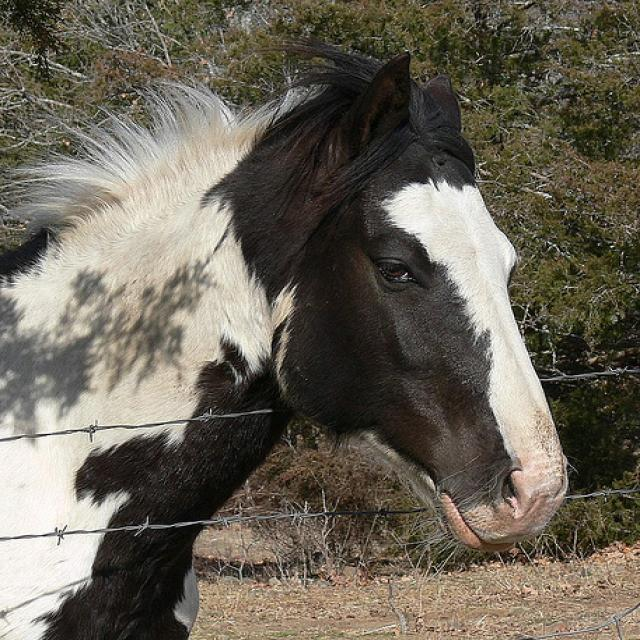horse: (1, 46, 574, 640)
